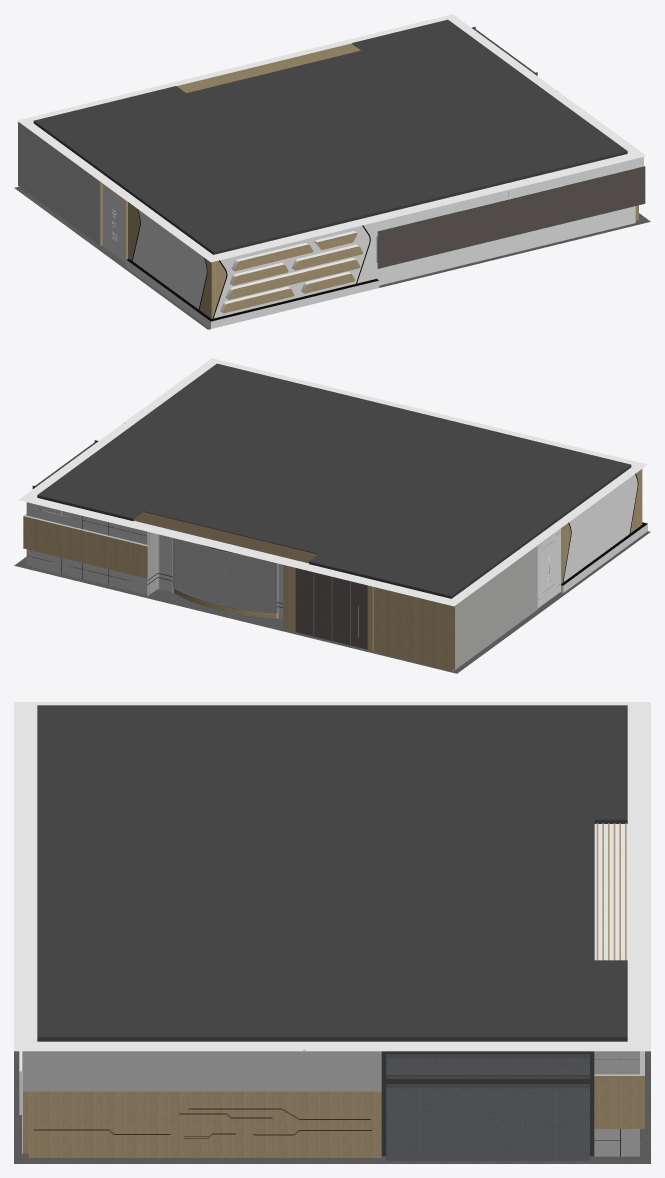
The model's file is reading_512.fbx.
3 renders of one model, top to bottom at view 1: azimuth 30°, elevation 25°; view 2: azimuth 150°, elevation 25°; view 3: azimuth 270°, elevation 25°, orthographic. The views are drawn at different scales.
Visible parts, largest first — view 1: SM_LM02_Black, SM_LM06_Gray, SM_LM08_01, SM_LM01_White, SM_LM03_Wood, SM_LM05_Gray, SM_LM07_Ground, SM_LM04_Wood, SM_Emissive_01; view 2: SM_LM02_Black, SM_LM03_Wood, SM_LM05_Gray, SM_LM01_White, SM_LM07_Ground, SM_LM06_Gray, SM_LM08_01, SM_LM04_Wood, SM_Emissive_01, SM_LM08_02; view 3: SM_LM02_Black, SM_LM01_White, SM_LM03_Wood, SM_LM07_Ground, SM_Glass, SM_LM05_Gray, SM_LM04_Wood, SM_Emissive_01.
Part boxes in pixels (left/top/right/bottom): SM_LM02_Black: left=33, top=19, right=627, bottom=254; SM_LM06_Gray: left=102, top=157, right=643, bottom=328; SM_LM08_01: left=377, top=166, right=645, bottom=268; SM_LM01_White: left=17, top=14, right=646, bottom=262; SM_LM03_Wood: left=19, top=122, right=638, bottom=318; SM_LM05_Gray: left=18, top=91, right=558, bottom=245; SM_LM07_Ground: left=14, top=186, right=650, bottom=329; SM_LM04_Wood: left=177, top=43, right=361, bottom=92; SM_Emissive_01: left=126, top=209, right=378, bottom=321; SM_LM02_Black: left=32, top=363, right=631, bottom=598; SM_LM03_Wood: left=23, top=469, right=642, bottom=671; SM_LM05_Gray: left=23, top=422, right=537, bottom=669; SM_LM01_White: left=18, top=358, right=647, bottom=606; SM_LM07_Ground: left=14, top=531, right=650, bottom=673; SM_LM06_Gray: left=358, top=474, right=647, bottom=637; SM_LM08_01: left=295, top=567, right=367, bottom=649; SM_LM04_Wood: left=133, top=512, right=317, bottom=563; SM_Emissive_01: left=27, top=473, right=647, bottom=585; SM_LM08_02: left=173, top=533, right=559, bottom=613; SM_LM02_Black: left=37, top=705, right=627, bottom=1156; SM_LM01_White: left=14, top=702, right=650, bottom=1051; SM_LM03_Wood: left=23, top=1076, right=644, bottom=1157; SM_LM07_Ground: left=14, top=1051, right=650, bottom=1163; SM_Glass: left=386, top=1058, right=589, bottom=1160; SM_LM05_Gray: left=23, top=1049, right=644, bottom=1156; SM_LM04_Wood: left=596, top=823, right=626, bottom=960; SM_Emissive_01: left=34, top=1108, right=620, bottom=1156.
Size of the model in its own units: 2084 by 313 by 1580.
29 materials, 8 textured.
